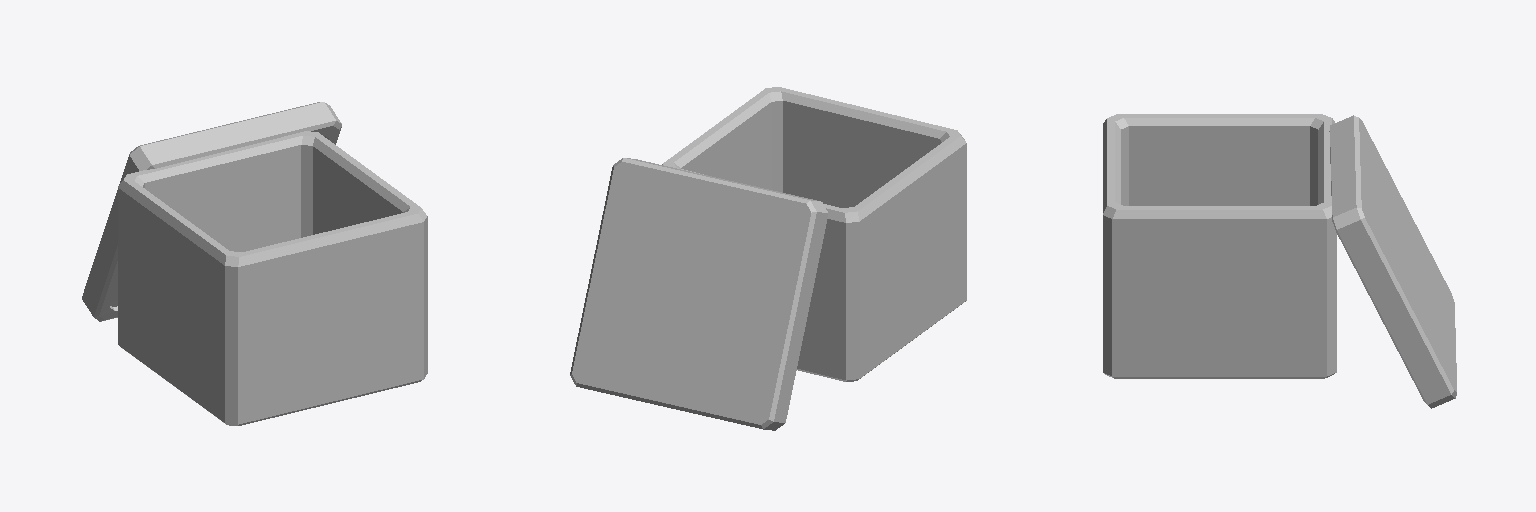
Rendered from boxBig_open.obj.
The picture shows the model from 3 angles: view 1: azimuth 30°, elevation 25°; view 2: azimuth 150°, elevation 25°; view 3: azimuth 270°, elevation 25°; orthographic projection.
Parts seen in each view (by area): view 1: big_box004; view 2: big_box004; view 3: big_box004.
Part boxes in pixels (left/top/right/bottom): big_box004: left=82, top=102, right=427, bottom=425; big_box004: left=570, top=87, right=966, bottom=430; big_box004: left=1103, top=114, right=1456, bottom=408.
Size of the model in its own units: 1.35 by 1.15 by 1.81.